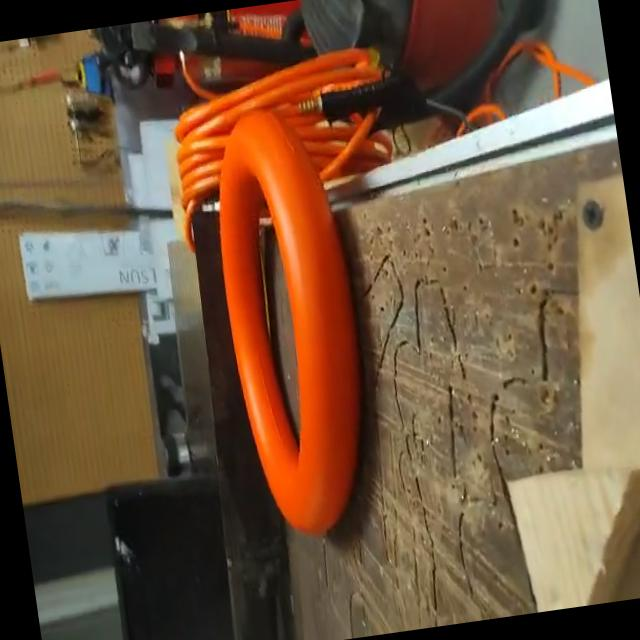note: (198, 101, 391, 548)
